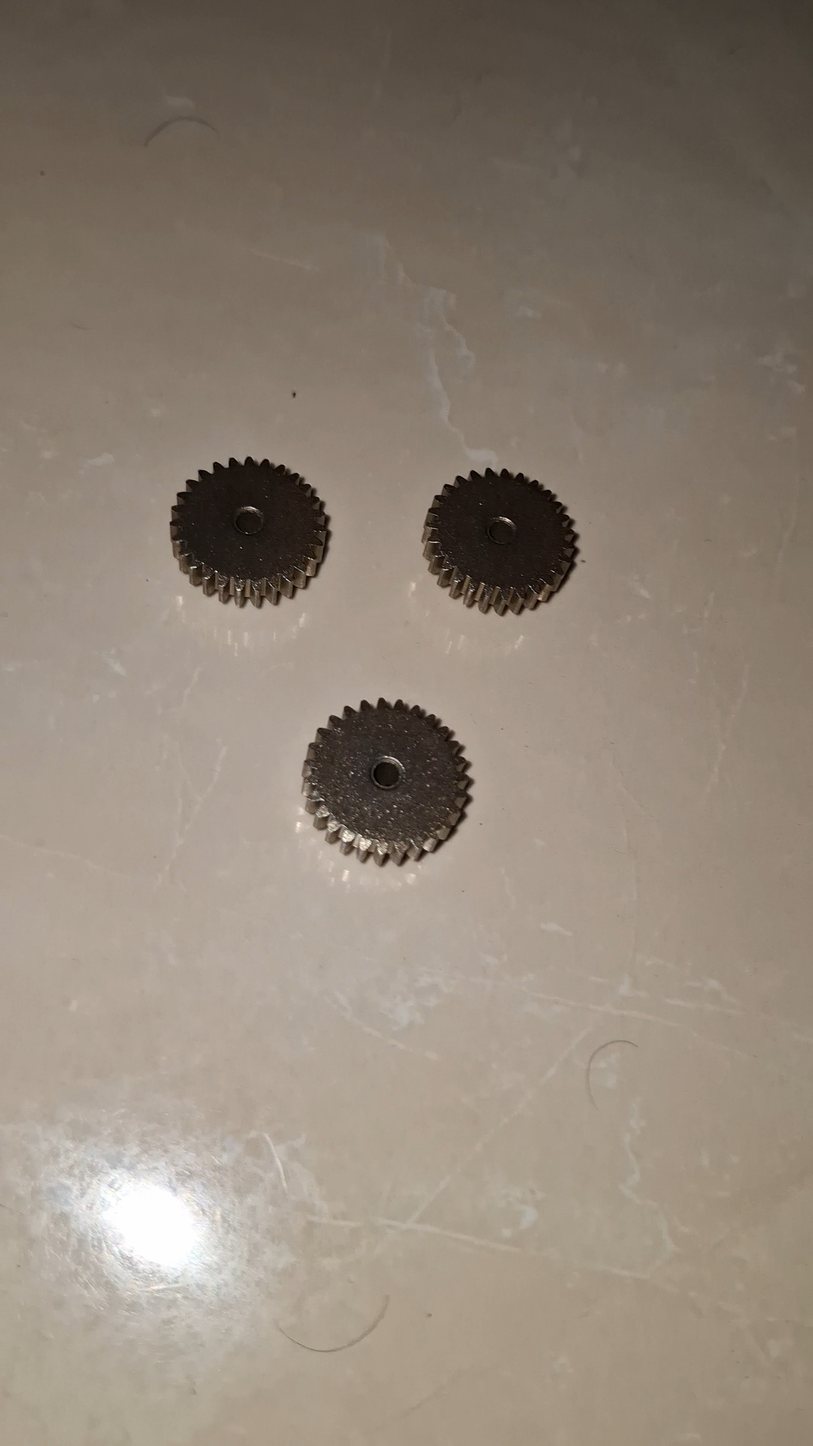spur gear: (303, 699, 468, 863), (171, 458, 326, 606), (423, 470, 575, 614)
